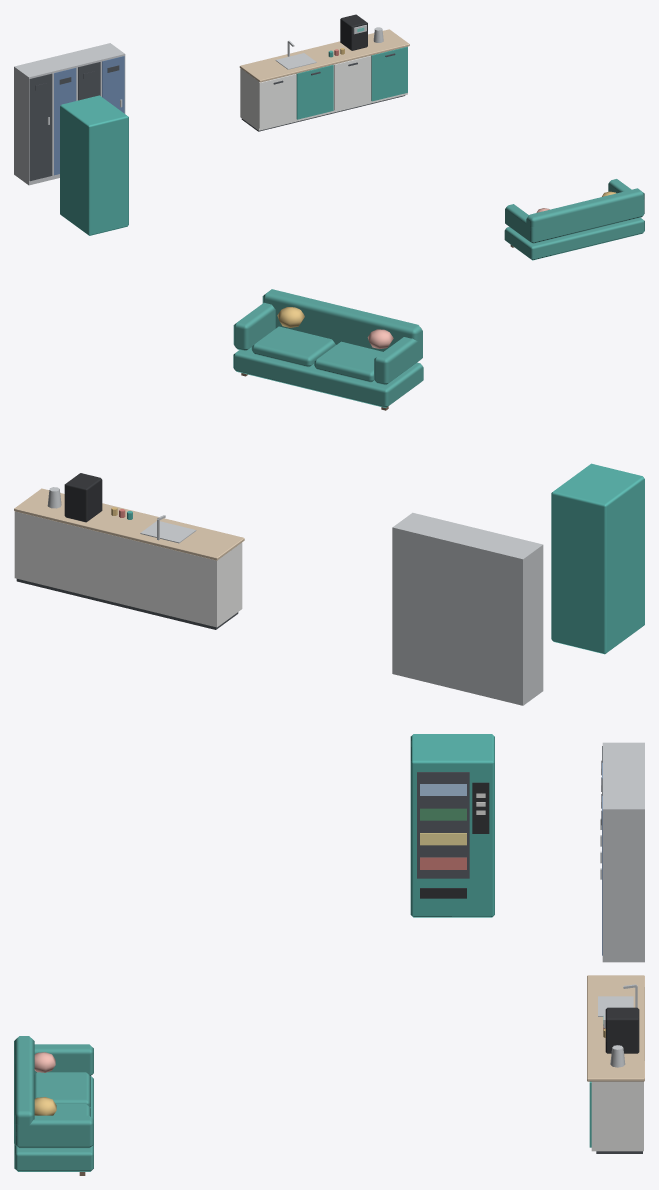
Rendered from einrichtung_pausenraum_buehne.glb.
3 renders of one model, top to bottom at view 1: azimuth 30°, elevation 25°; view 2: azimuth 150°, elevation 25°; view 3: azimuth 270°, elevation 25°, orthographic. The views are drawn at different scales.
Visible parts, largest first — view 1: einrichtung_pausenraum_buehne; view 2: einrichtung_pausenraum_buehne; view 3: einrichtung_pausenraum_buehne.
Part boxes in pixels (left/top/right/bottom): einrichtung_pausenraum_buehne: left=14, top=14, right=644, bottom=260; einrichtung_pausenraum_buehne: left=14, top=289, right=644, bottom=705; einrichtung_pausenraum_buehne: left=14, top=734, right=644, bottom=1175.
Bounding box in the file's own units: 7.28 × 1.85 × 6.73.
